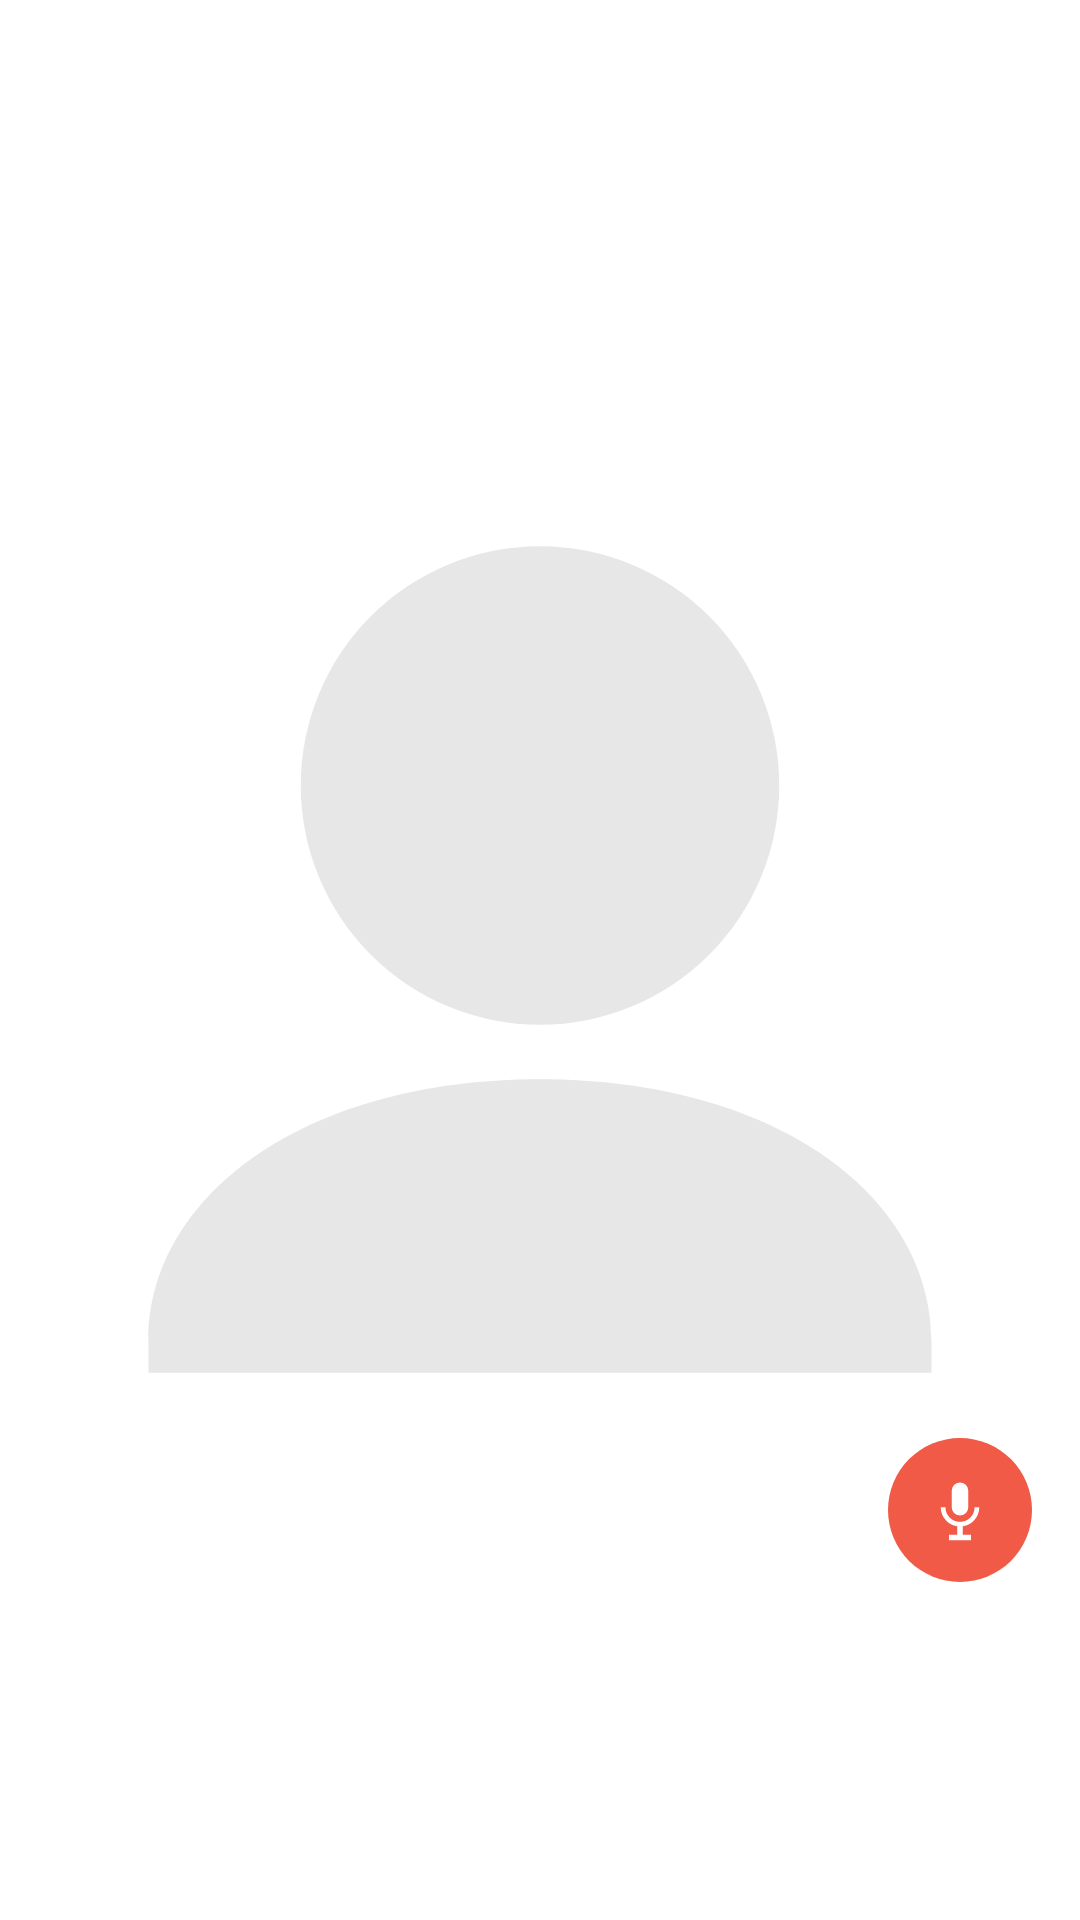

Icons on this 1080 × 1920 Android screen, each with its box as (x1, y1, x2, y2):
widget mic: (888, 1438, 1032, 1582)
